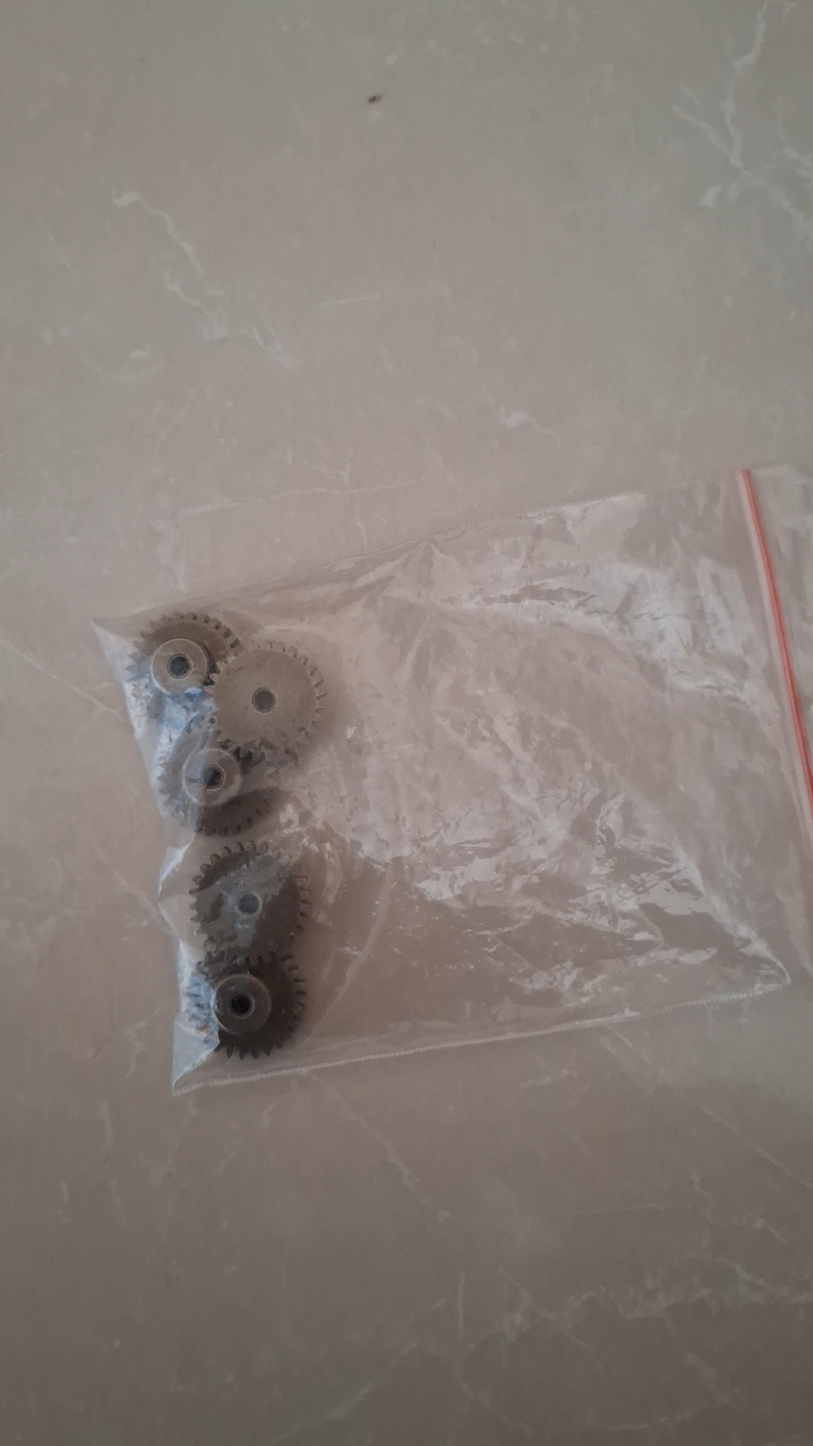spur gear: (192, 841, 309, 971), (207, 642, 325, 761), (158, 720, 273, 836), (213, 954, 305, 1057), (131, 612, 242, 695)
